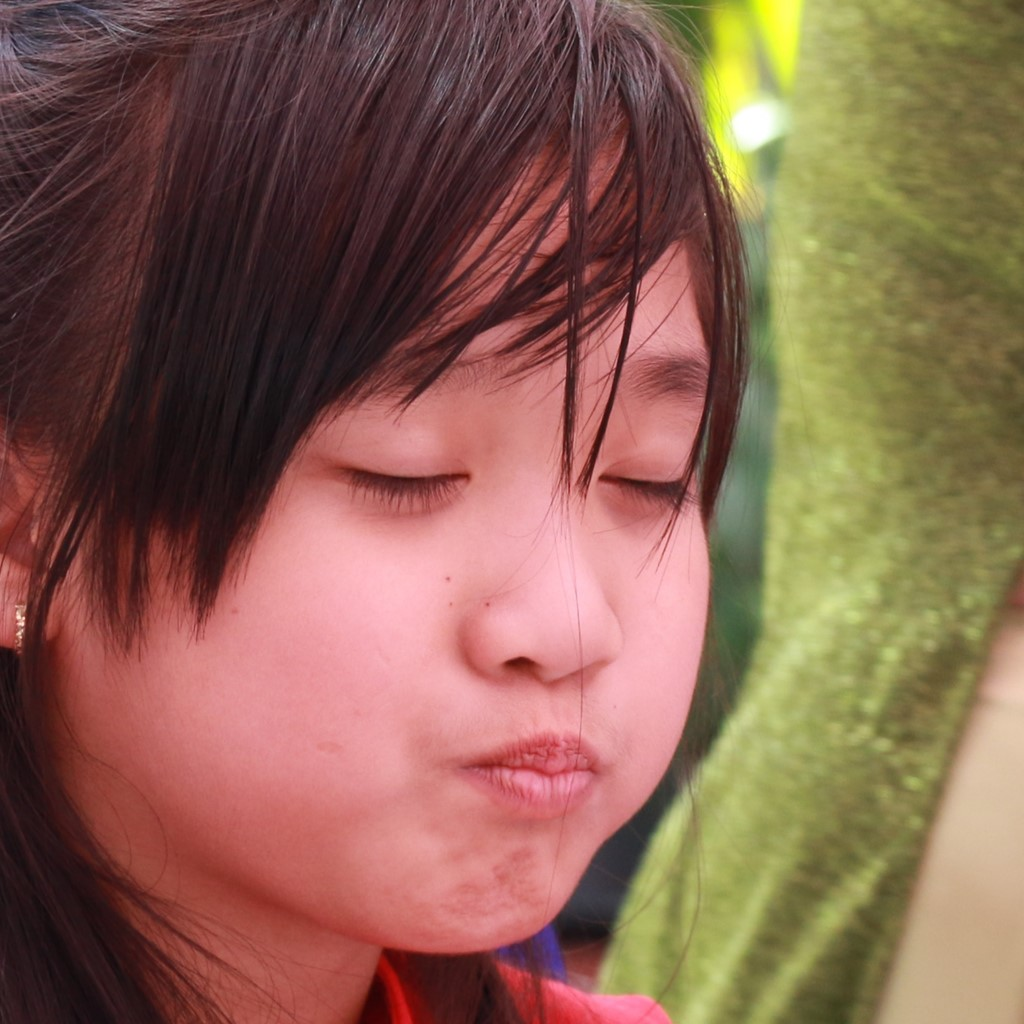sin_mascara: (108, 134, 725, 964)
